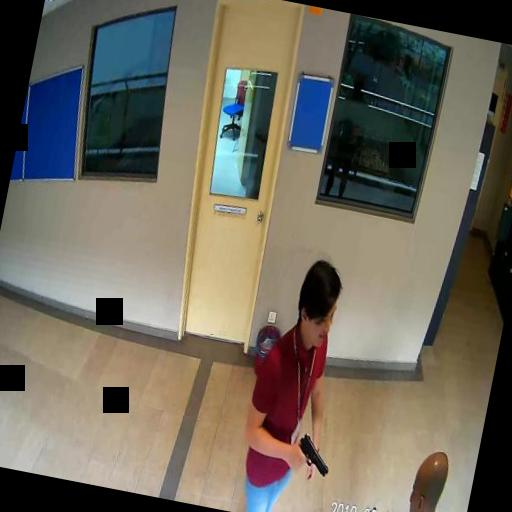Handgun: (292, 431, 332, 483)
